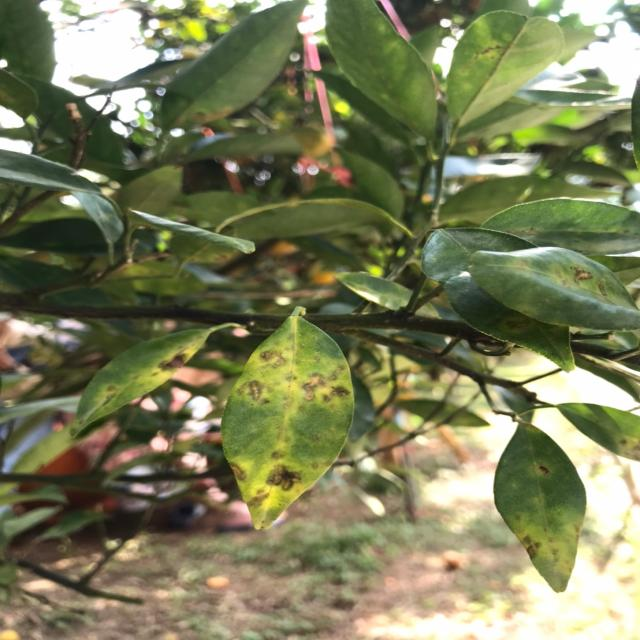canker: (220, 335, 357, 531), (489, 428, 595, 593), (475, 240, 639, 326), (79, 320, 211, 419), (435, 18, 558, 117), (572, 402, 640, 459)
